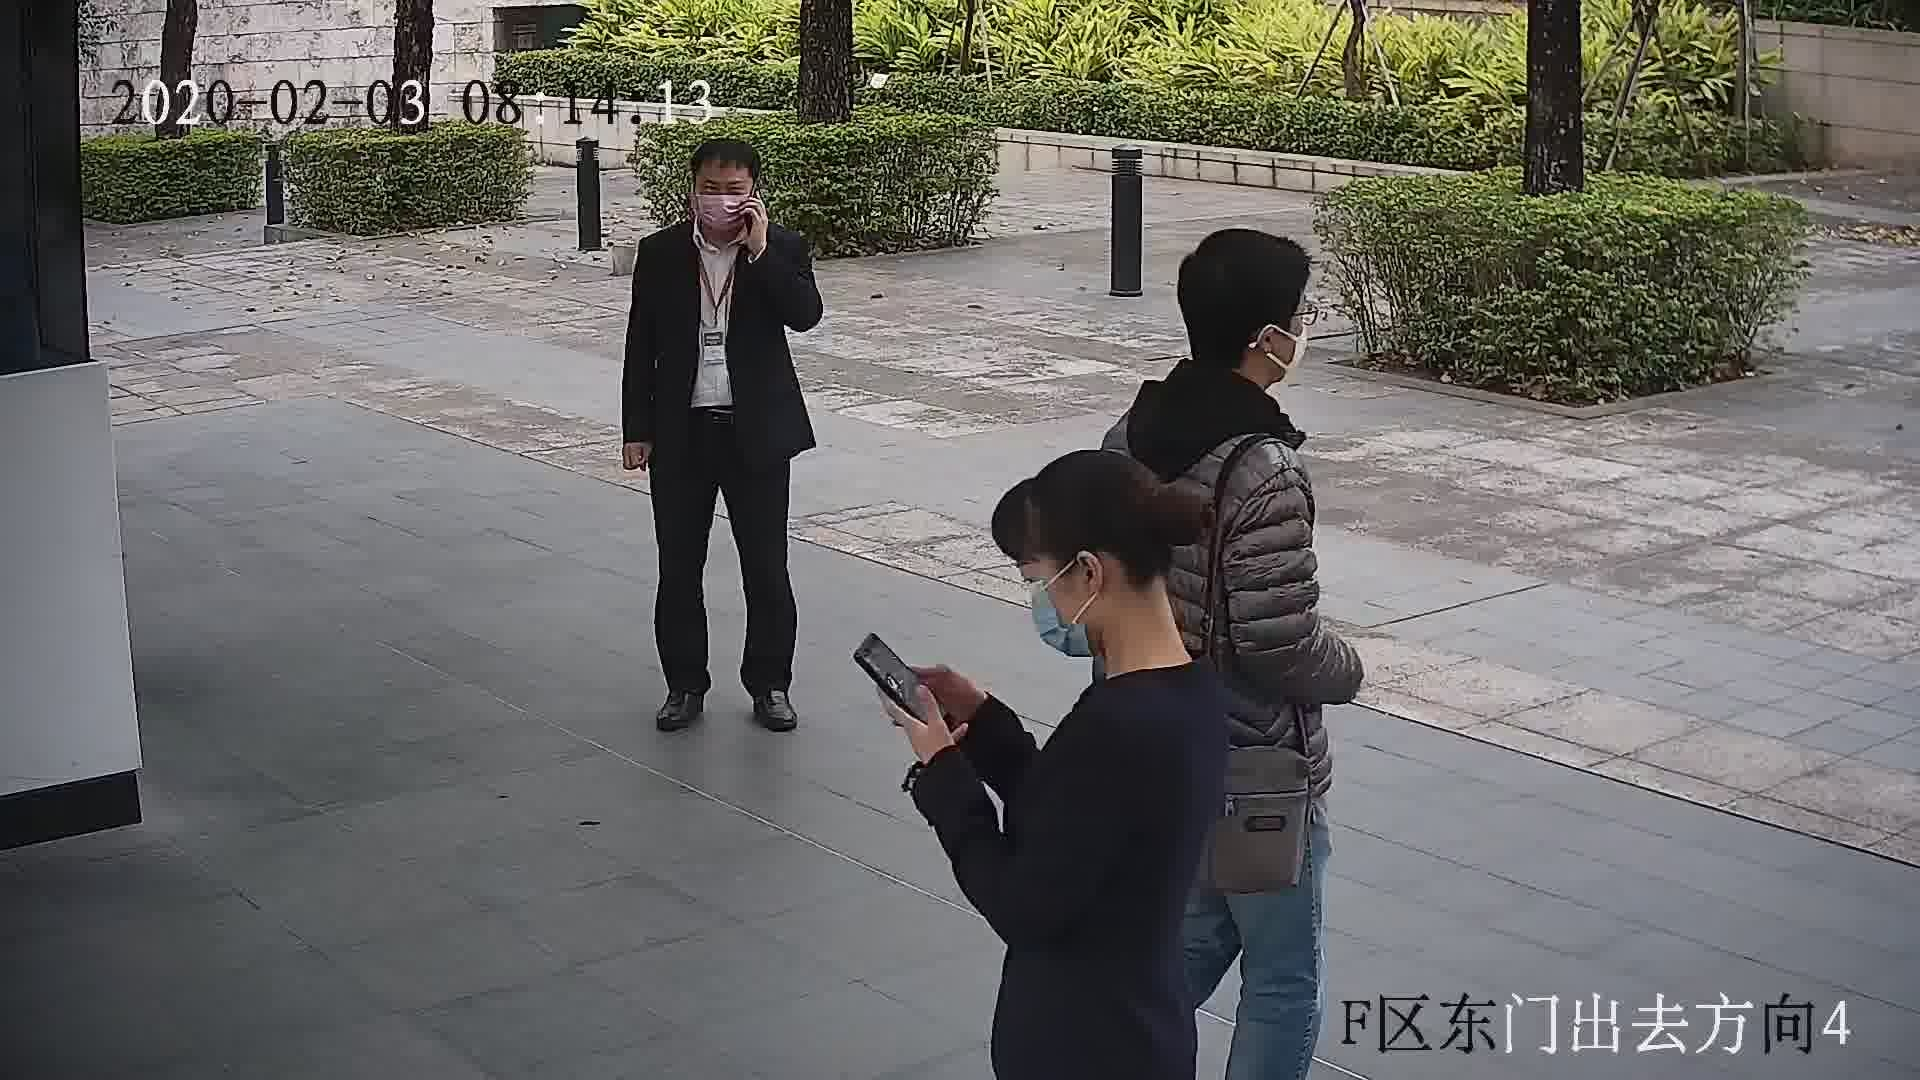face: (1011, 523, 1142, 652), (685, 162, 763, 240), (1259, 282, 1318, 385)
mask: (1025, 576, 1103, 652), (696, 187, 747, 235), (1282, 326, 1311, 380)
person: (1000, 451, 1266, 773), (1130, 224, 1321, 479), (637, 137, 806, 285)
